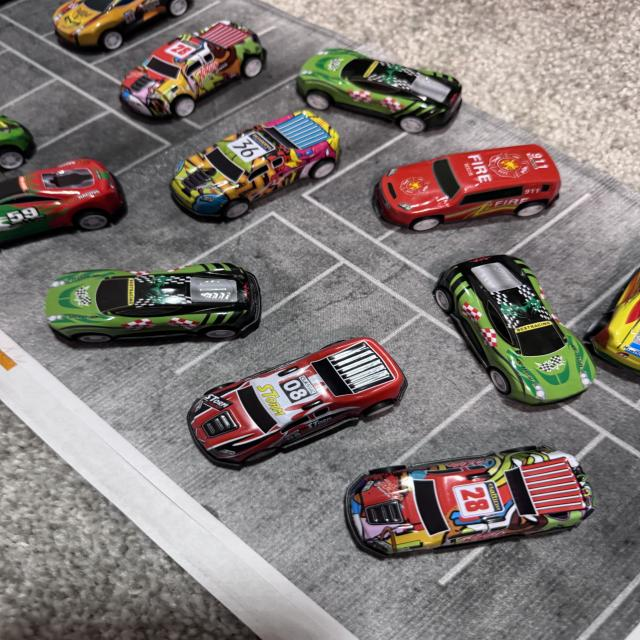Car: (169, 315, 417, 502), (418, 244, 626, 451), (20, 238, 290, 386), (393, 429, 640, 569), (115, 114, 328, 250), (119, 18, 273, 147), (0, 133, 120, 253), (378, 153, 562, 230), (317, 35, 447, 129)
